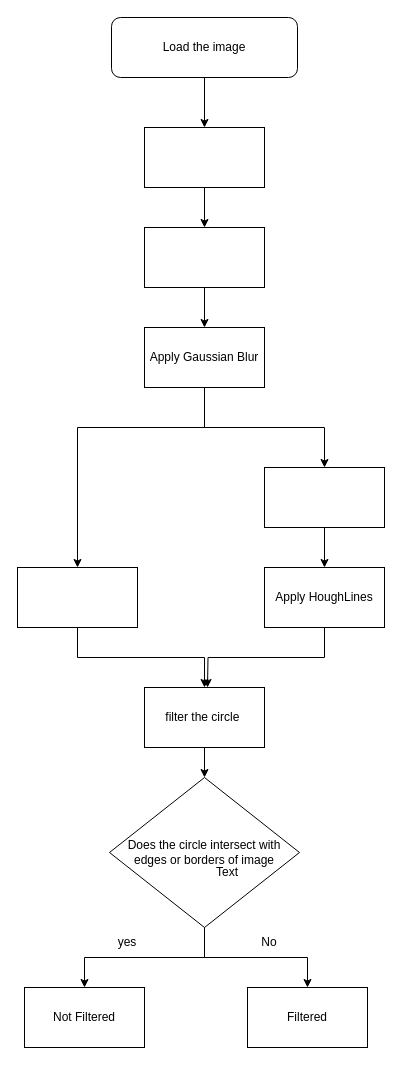
The diagram is 402 pixels wide and 1065 high, and some of its shapes have lost their labels. Here are the shapes that lost their labels. From the top down, the centre of each, then its label:
At pixel 204 157: "Resize the image".
At pixel 204 257: "Convert to Grayscale".
At pixel 324 497: "Apply Sobel Y".
At pixel 77 597: "Apply houghcircles".
